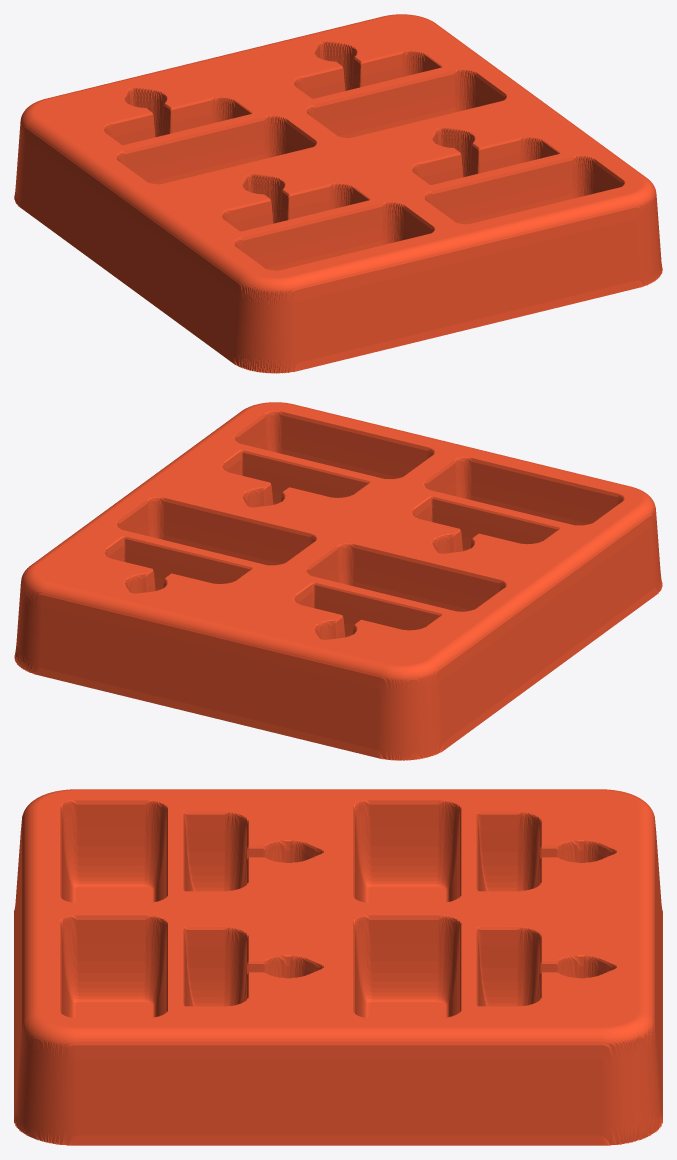
The model's file is mold.glb.
3 views of the same model, one above another, from view 1: azimuth 30°, elevation 25°; view 2: azimuth 150°, elevation 25°; view 3: azimuth 270°, elevation 25° (orthographic). The views are drawn at different scales.
Parts seen in each view (by area): view 1: geometry_0; view 2: geometry_0; view 3: geometry_0.
Part boxes in pixels (<box>): geometry_0: <box>14,14,662,373</box>; geometry_0: <box>14,402,662,760</box>; geometry_0: <box>14,789,662,1145</box>.
Size of the model in its own units: 0.0892 by 0.0175 by 0.0952.
